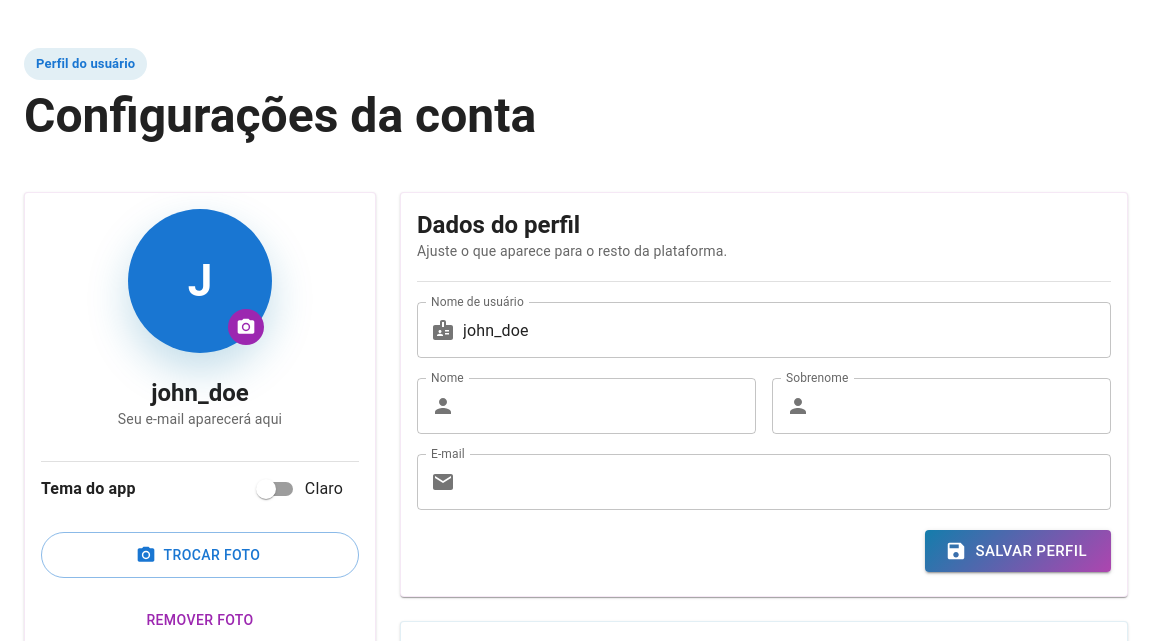
Test case: Settings Page › should submit profile edits successfully
This screenshot has width=1152, height=641.
Type "Johnny" into the field labelled "Nome" at (610, 406), box [463,378,756,434]
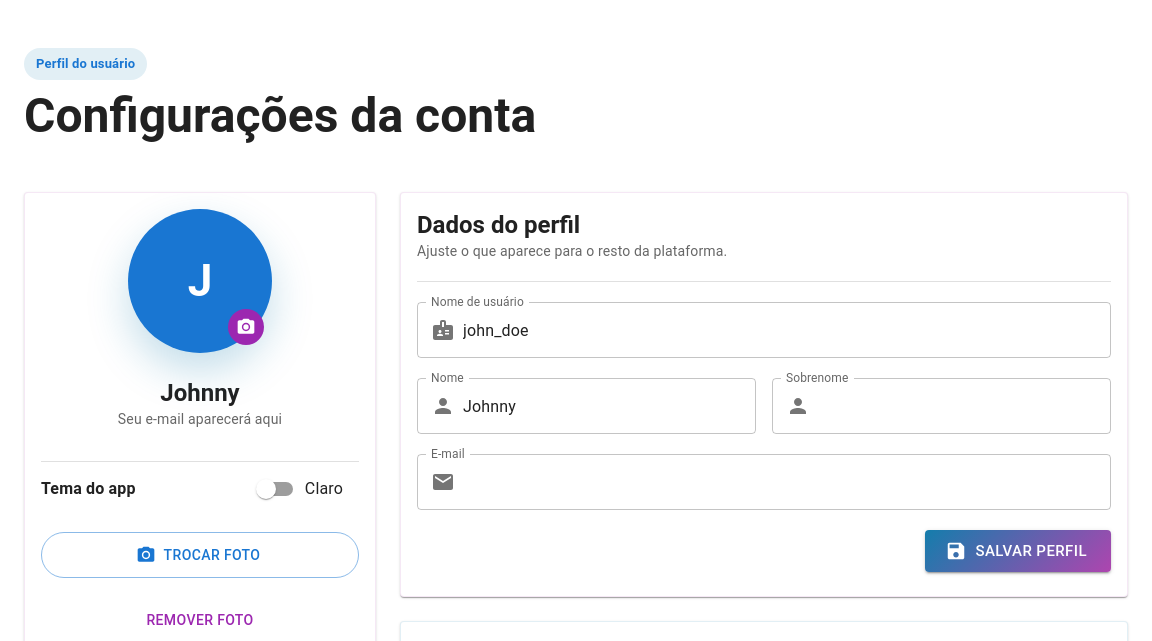
Click the button "Salvar perfil" at (1018, 551), box [926,530,1111,572]
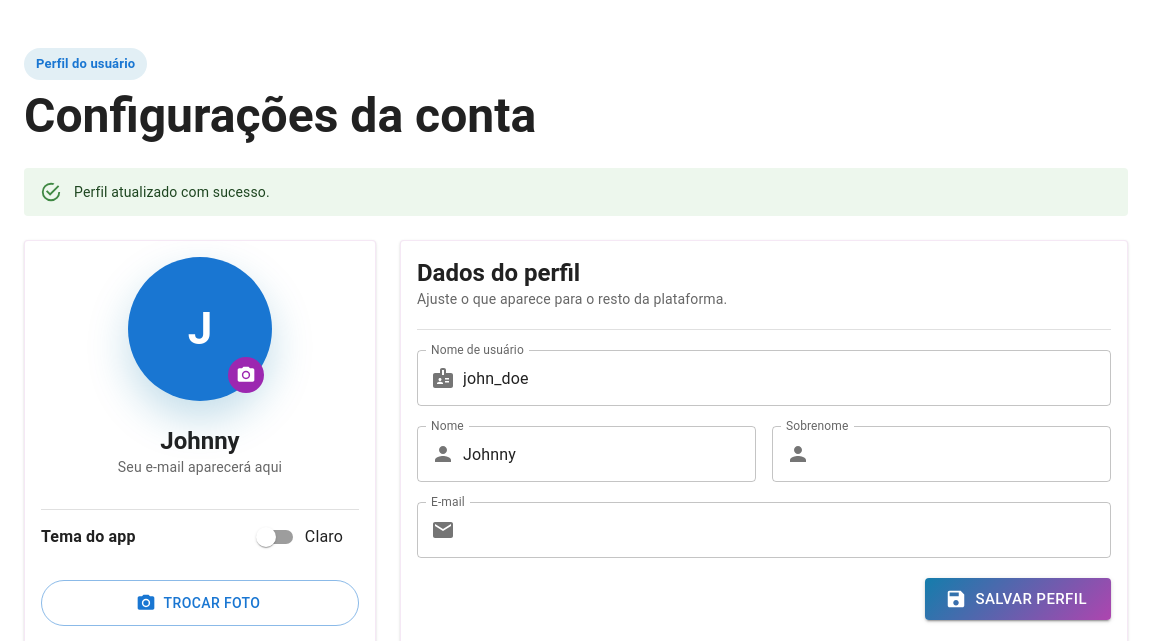
Result: the text "Perfil atualizado com sucesso." is shown at [74,184,270,200]
